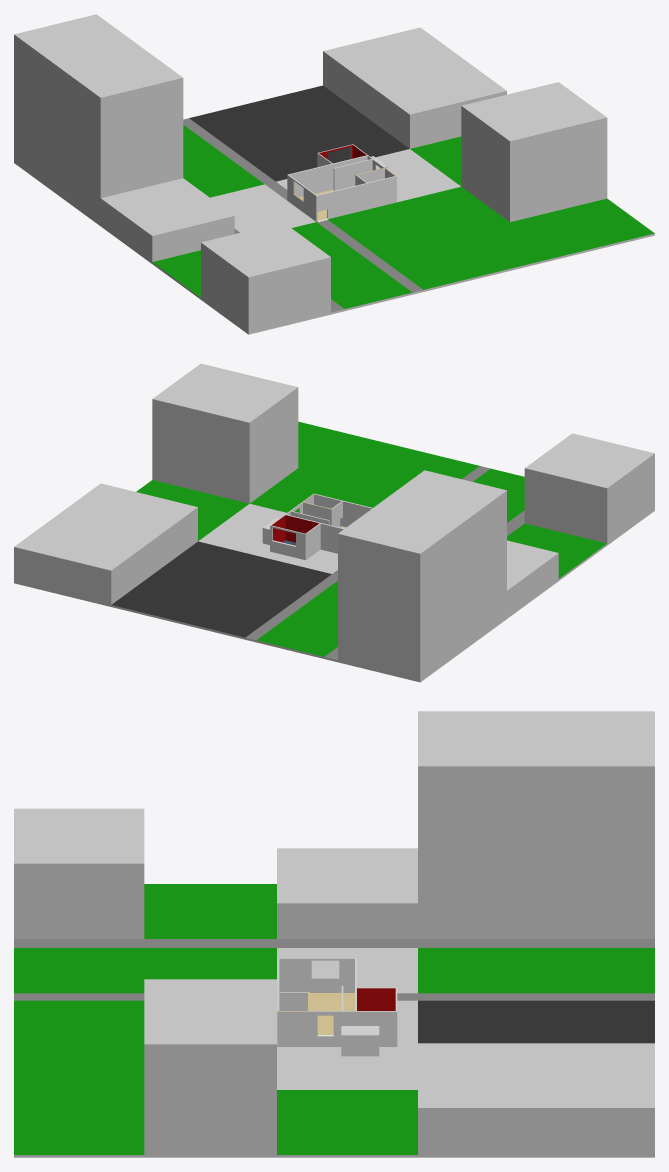
File: tempbuIld.fbx
3 renders of one model, top to bottom at view 1: azimuth 30°, elevation 25°; view 2: azimuth 150°, elevation 25°; view 3: azimuth 270°, elevation 25°, orthographic. The views are drawn at different scales.
Parts seen in each view (by area): view 1: 1-Environment, 1-Building; view 2: 1-Environment, 1-Building; view 3: 1-Environment, 1-Building.
Boxes of the visible parts, box(x1,y1,x2,y2) form: 1-Environment: box(14, 14, 654, 334); 1-Building: box(287, 144, 396, 222); 1-Environment: box(14, 363, 654, 682); 1-Building: box(262, 493, 372, 560); 1-Environment: box(14, 711, 654, 1157); 1-Building: box(277, 958, 397, 1056).
Size of the model in its own units: 30462 by 9214 by 30462.
